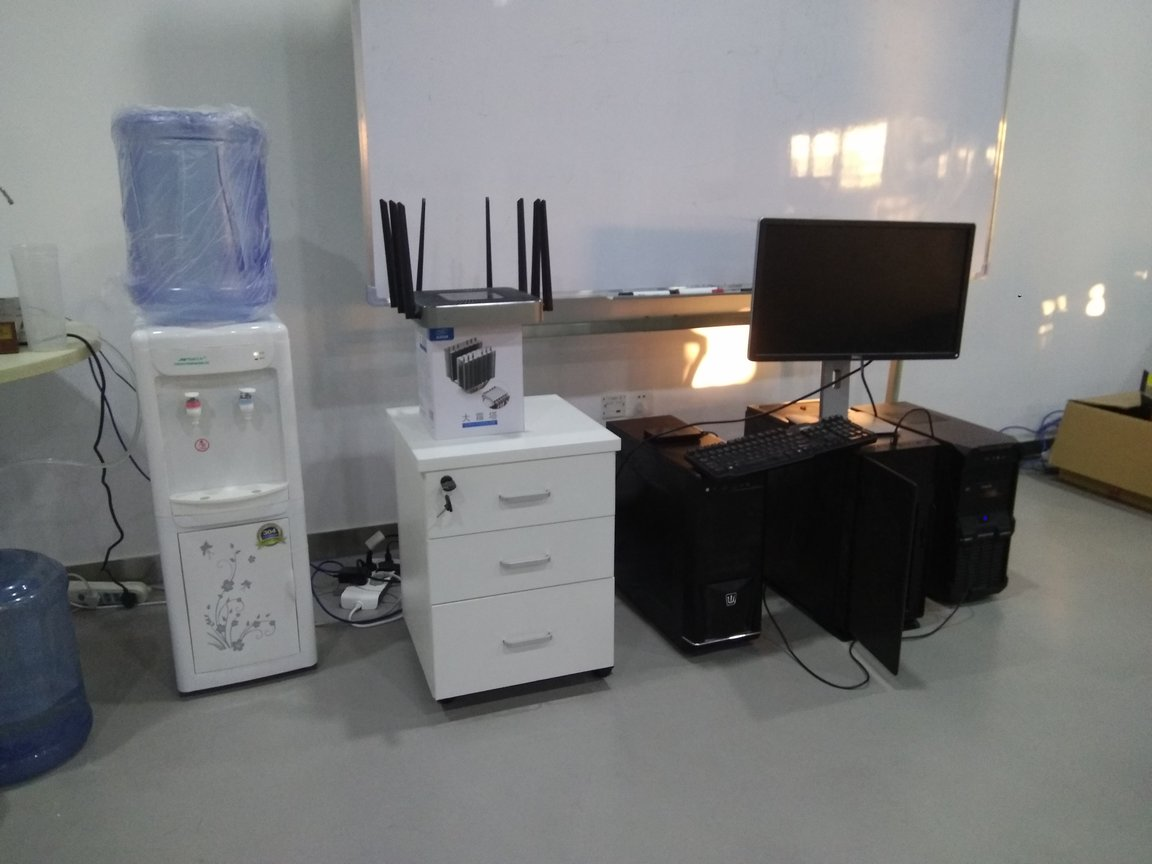computer: (751, 396, 944, 663), (614, 412, 770, 656), (855, 396, 1020, 615)
drawer chest: (394, 394, 625, 704)
monitor: (750, 208, 987, 438)
scuttlebutt: (113, 105, 292, 319), (1, 539, 100, 786)
water dispenser: (128, 308, 334, 699)
